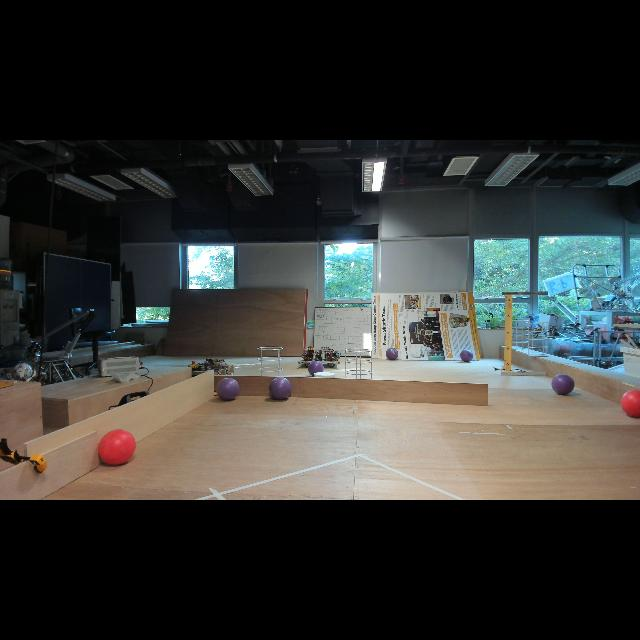P: (548, 374, 578, 398), (214, 377, 243, 401), (268, 375, 294, 401), (306, 358, 326, 378), (384, 346, 400, 362), (460, 348, 474, 366)
R: (96, 428, 138, 468), (618, 388, 640, 418)
S: (344, 348, 372, 380), (258, 346, 284, 376)
